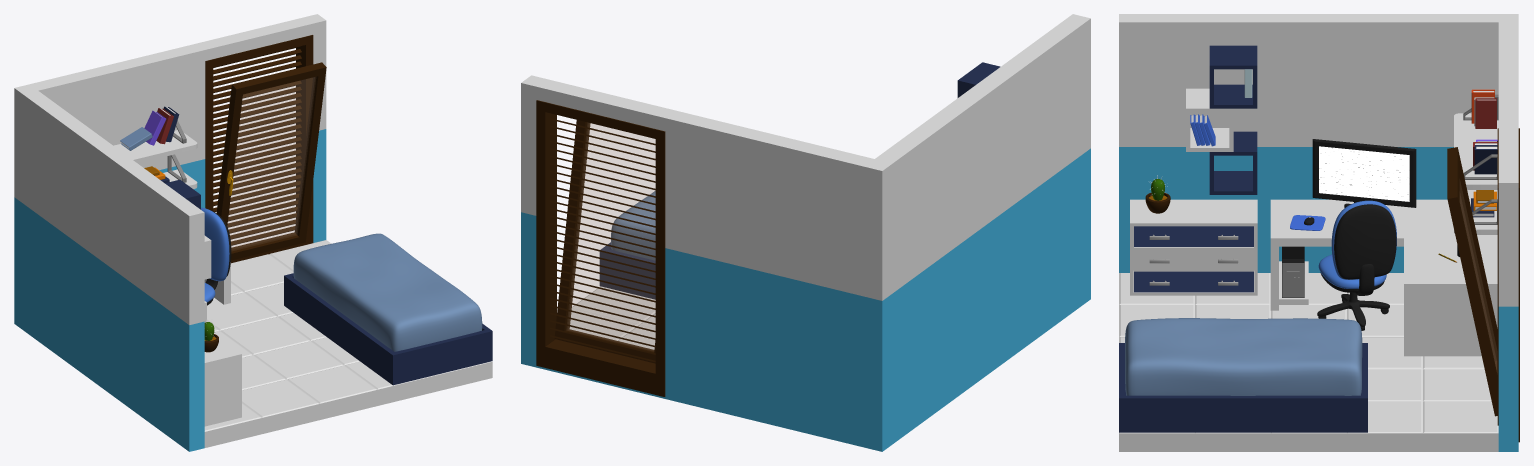
3 renders of one model, left to right at view 1: azimuth 30°, elevation 25°; view 2: azimuth 150°, elevation 25°; view 3: azimuth 270°, elevation 25°, orthographic. The views are drawn at different scales.
Visible parts, largest first — view 1: Cube.002_Material_0, Cube.002_Material.002_0, Cube_Material_0, Cube.020, Cube.022, Cube.021, Cube.010, Cube.003_Material.003_0, Cube.019, Cube.014, Cube.052, Cube.042 (+1 smaller); view 2: Cube.002_Material.002_0, Cube.002_Material_0, Cube.022, Cube.019, Cube.021, Cube.003_Material.003_0, Cube_Material_0, Cube.010, Cube.020, Cube.001_Material.001_0; view 3: Cube.002_Material_0, Cube_Material_0, Cube.020, Cube.002_Material.002_0, Cube.024, Cube.014, Cube.010, Cube.052, Cube.003_Material.003_0, Cube.001_Material.001_0, Cube.023, Cube.042 (+9 smaller).
Part boxes in pixels (x1,y1,x2,y2): Cube.002_Material_0: (14,14,326,324); Cube.002_Material.002_0: (14,129,326,451); Cube_Material_0: (204,240,492,447); Cube.020: (293,233,482,351); Cube.022: (227,77,315,250); Cube.021: (213,46,301,245); Cube.010: (284,273,492,385); Cube.003_Material.003_0: (216,62,326,260); Cube.019: (205,35,313,263); Cube.014: (204,337,241,426); Cube.052: (201,207,231,305); Cube.042: (120,106,179,183); Cube.002_Material.002_0: (521,148,1090,451); Cube.002_Material_0: (521,14,1090,300); Cube.022: (567,123,655,350); Cube.019: (536,100,665,396); Cube.021: (550,118,655,362); Cube.003_Material.003_0: (554,120,655,363); Cube_Material_0: (569,286,655,349); Cube.010: (599,242,655,299); Cube.020: (611,191,655,260); Cube.001_Material.001_0: (957,62,1000,97); Cube.002_Material_0: (1119,14,1518,306); Cube_Material_0: (1119,273,1498,451); Cube.020: (1125,318,1362,395); Cube.002_Material.002_0: (1119,147,1518,451); Cube.024: (1270,199,1497,356); Cube.014: (1130,199,1257,295); Cube.010: (1119,343,1367,432); Cube.052: (1317,200,1396,326); Cube.003_Material.003_0: (1447,147,1497,416); Cube.001_Material.001_0: (1209,45,1257,194); Cube.023: (1319,146,1409,201); Cube.042: (1190,69,1497,217).
Bounding box in the file's own units: 200 × 149 × 201.
